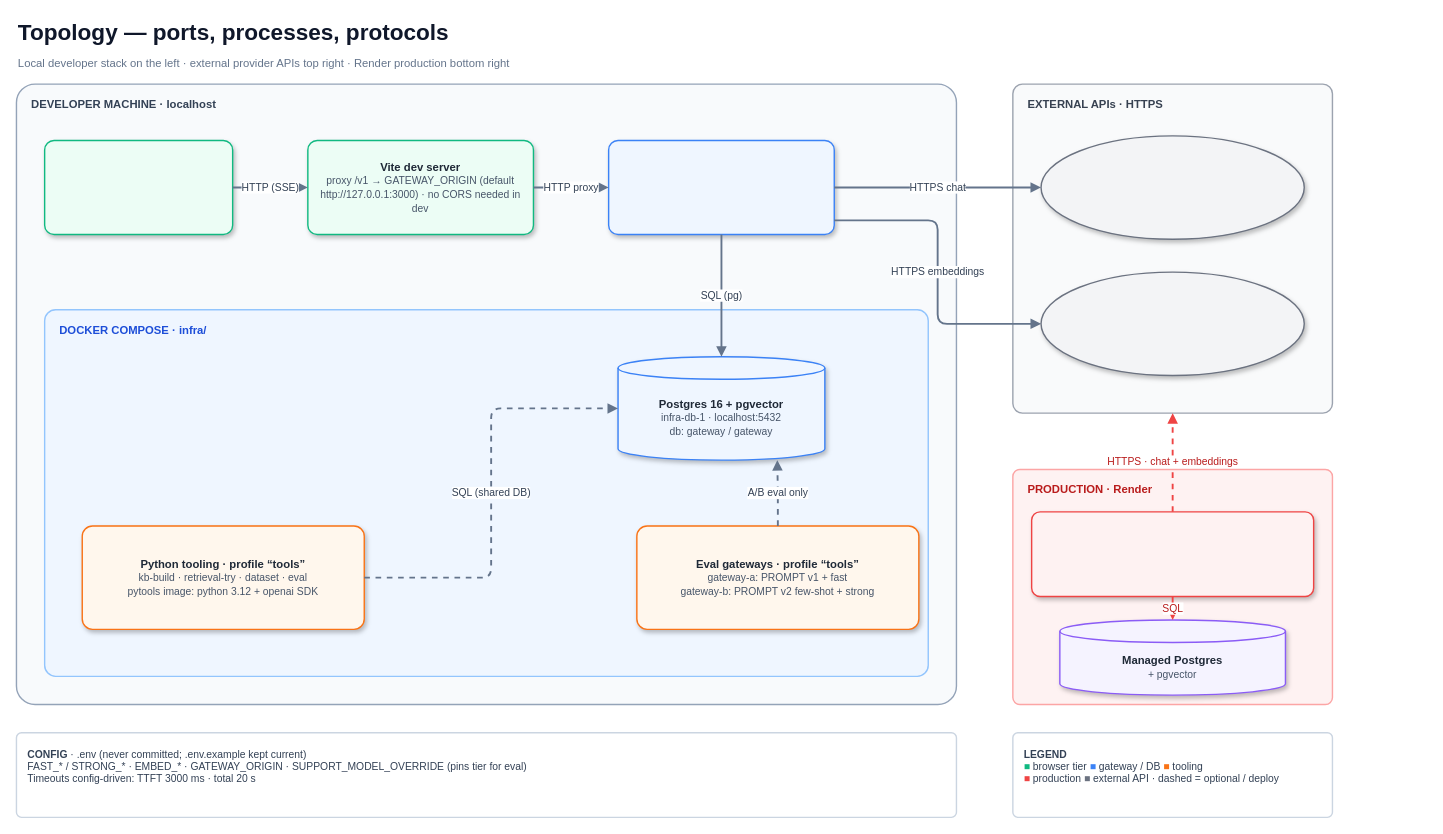
Image size: 1443x834. Some labels were removed from this diagram. Each missing label, with the centre of its shape:
"Browser React console (Vite dev) http://localhost:5173" belongs at pixel 139 188.
"Gateway (host process) tsx watch · Node 20+ · Fastify http://127.0.0.1:3000" belongs at pixel 722 188.
"Gateway web service npm install && build && start -w apps/gateway" belongs at pixel 1173 555.
"Gemini API EMBED_* · gemini-embedding-001 768-dim vectors" belongs at pixel 1173 324.
"Open AI Compatible FAST and STRONG OpenAI-compatible /chat/completions" belongs at pixel 1173 188.
